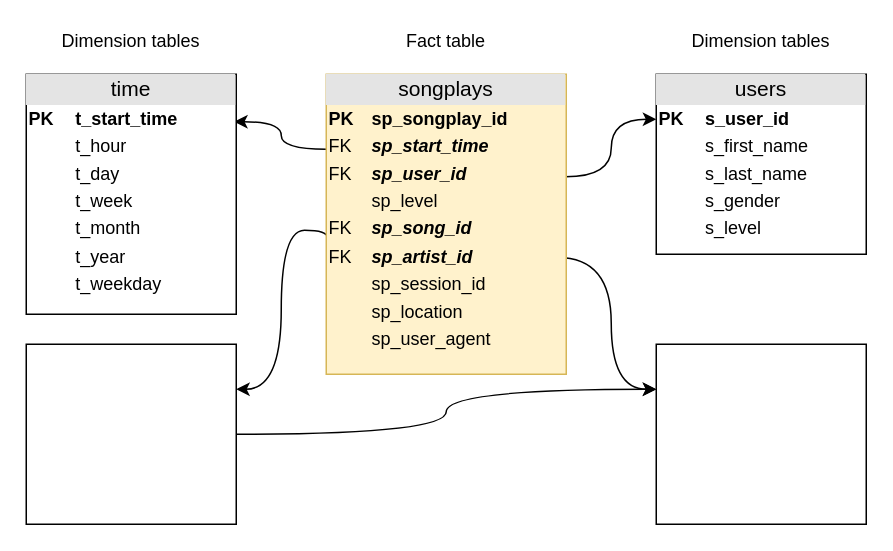
The diagram is 893 pixels wide and 551 high, and some of its shapes have lost their labels. Each missing label, with the centre of its shape:
"artists PK a_artist_id a_name a_location a_latitude a_longitude" goes at (x=760, y=433).
"songs PK s_song_id s_title FK s_artist_id s_year s_duration" goes at (x=130, y=433).
